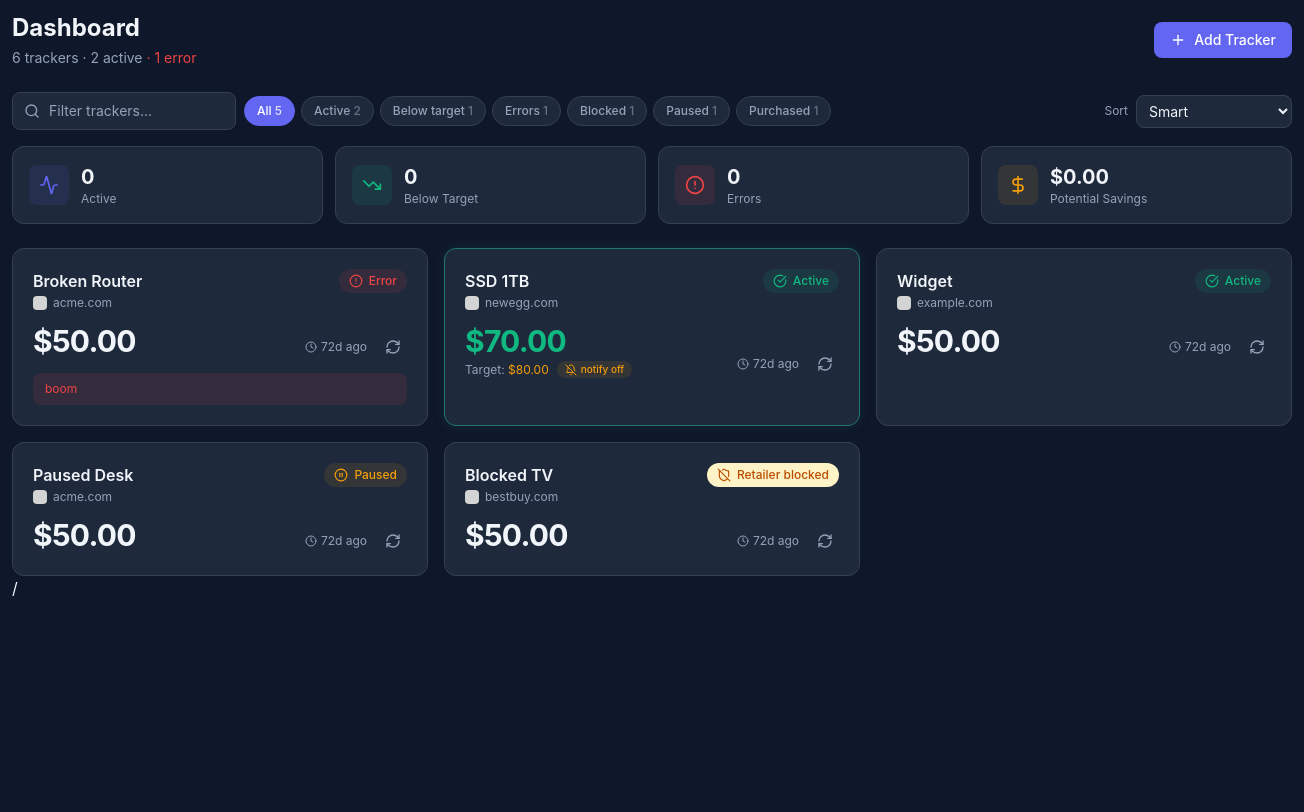
Dashboard › toolbar › Blocked chip appears only when a tracker is WAF-blocked, and filters the grid
Expected: the heading "Dashboard" is shown, [12,13,140,42]
Click the button "Blocked 1" at (607, 111), box [567,96,647,126]
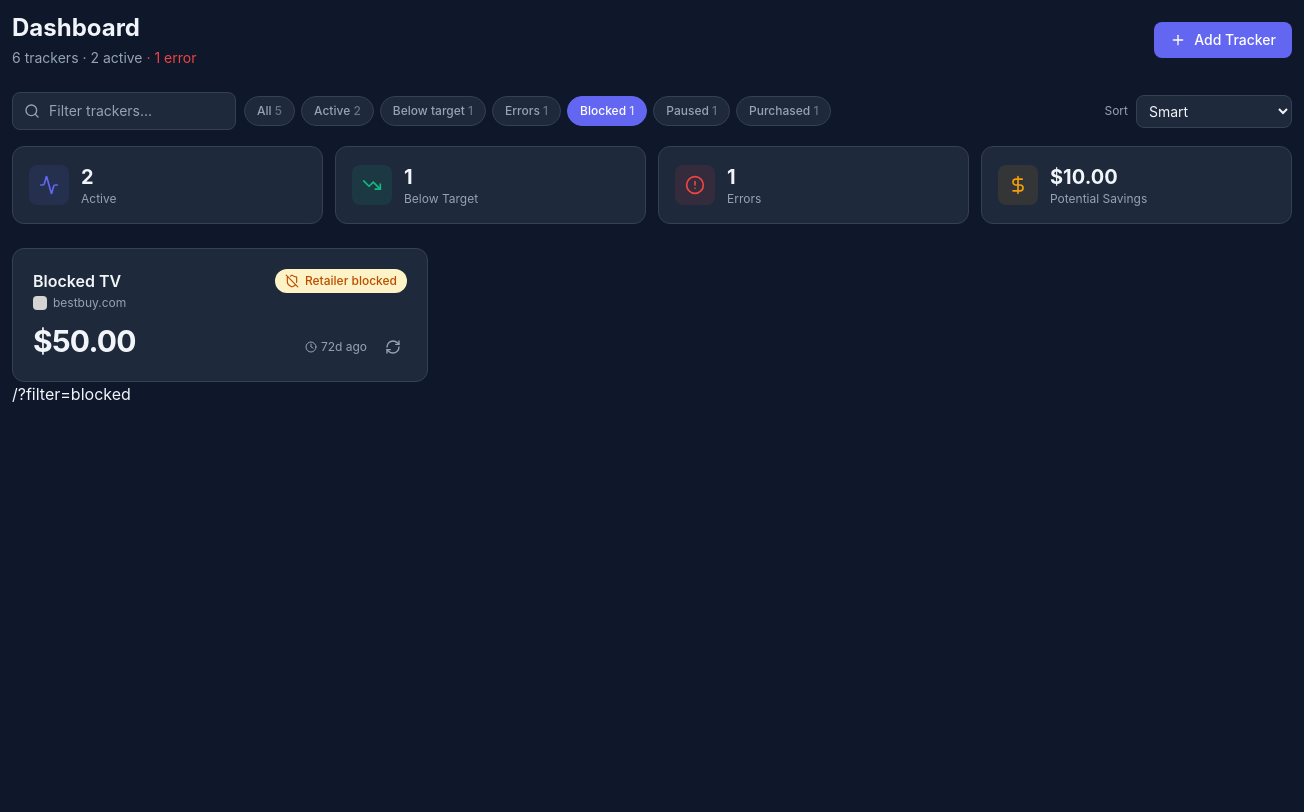
Expected: the heading "Blocked TV" is shown, [33,269,121,293]
Expected: the link "Widget" is gone
